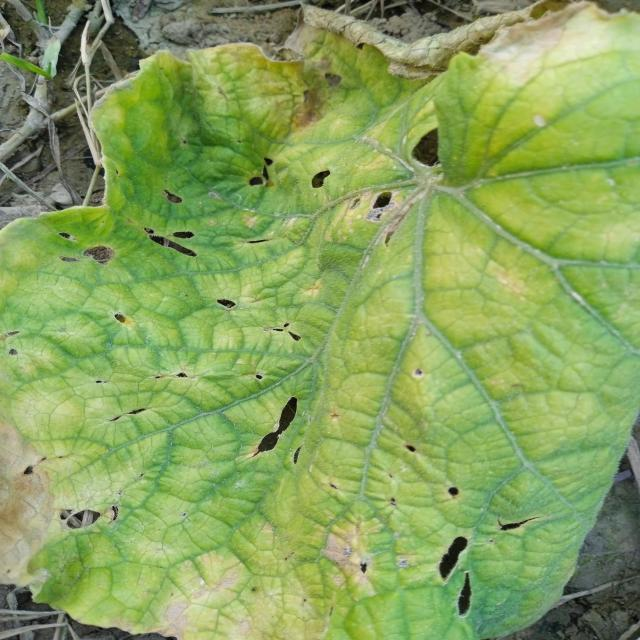cucumber_anthracnose: (0, 62, 576, 623)
